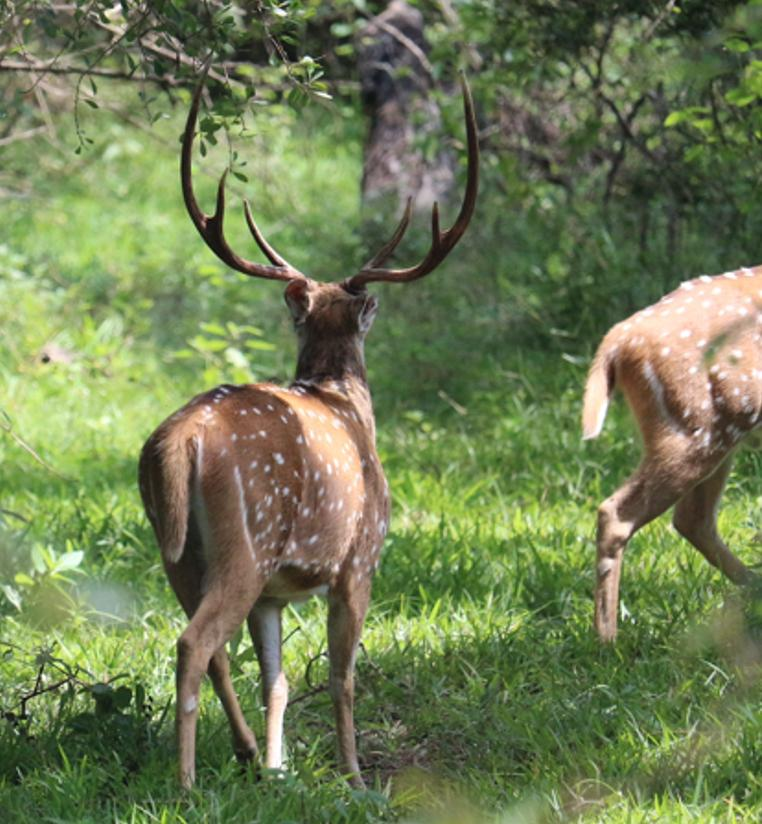Deer: (141, 78, 478, 787), (583, 265, 761, 639)
